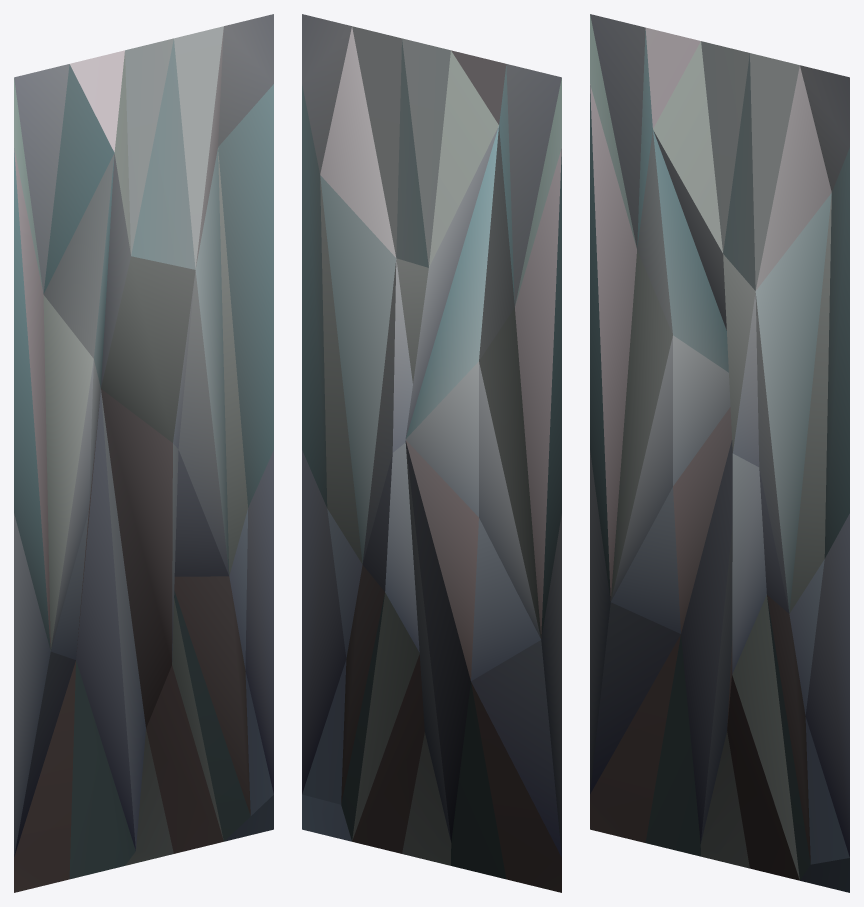
The model's file is sm_ground_hole.fbx.
The picture shows the model from 3 angles, left to right: view 1: azimuth 30°, elevation 25°; view 2: azimuth 150°, elevation 25°; view 3: azimuth 330°, elevation 25°; orthographic projection.
Parts seen in each view (by area): view 1: sm_ground_hole; view 2: sm_ground_hole; view 3: sm_ground_hole.
Boxes of the visible parts, <box> form: sm_ground_hole: <box>14,14,273,892</box>; sm_ground_hole: <box>302,14,561,892</box>; sm_ground_hole: <box>590,14,849,892</box>.
Size of the model in its own units: 600 by 200 by 71.44.
